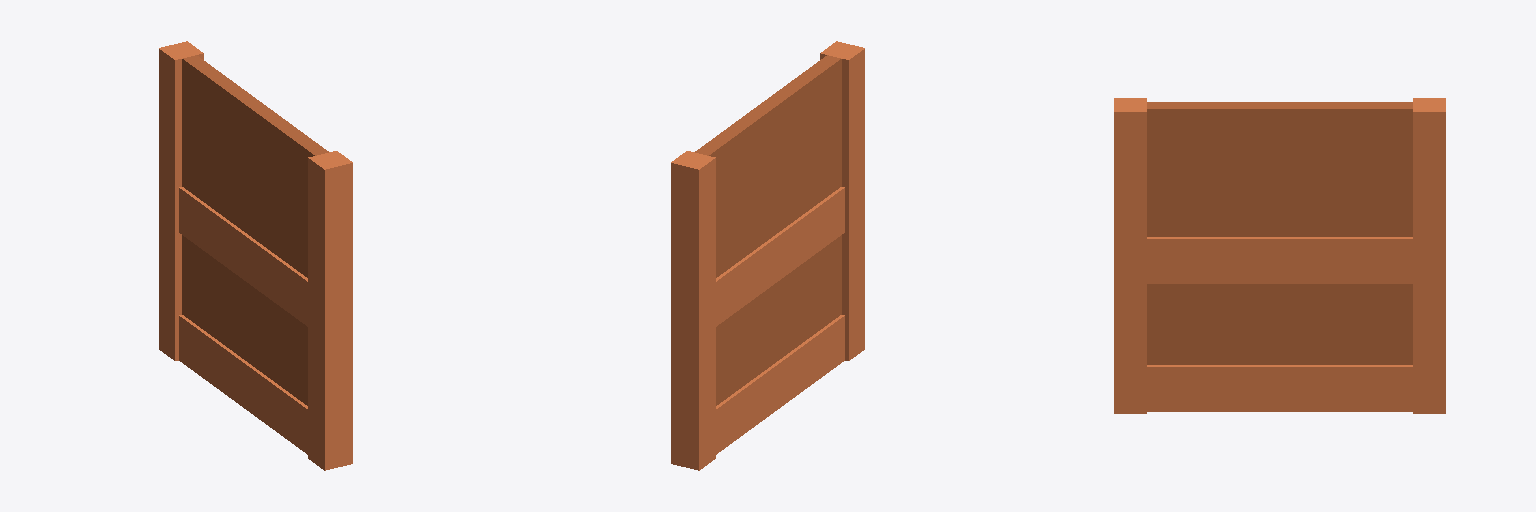
File: wallWoodDetailHorizontal.obj
3 views of the same model, side by side, from view 1: azimuth 30°, elevation 25°; view 2: azimuth 150°, elevation 25°; view 3: azimuth 270°, elevation 25° (orthographic).
Visible parts, largest first — view 1: wallWoodDetailHorizontal; view 2: wallWoodDetailHorizontal; view 3: wallWoodDetailHorizontal.
Boxes of the visible parts, x1,y1,x2,y2 form: wallWoodDetailHorizontal: [159, 41, 352, 470]; wallWoodDetailHorizontal: [671, 41, 864, 470]; wallWoodDetailHorizontal: [1114, 98, 1445, 413].
Size of the model in its own units: 0.1 by 1 by 1.